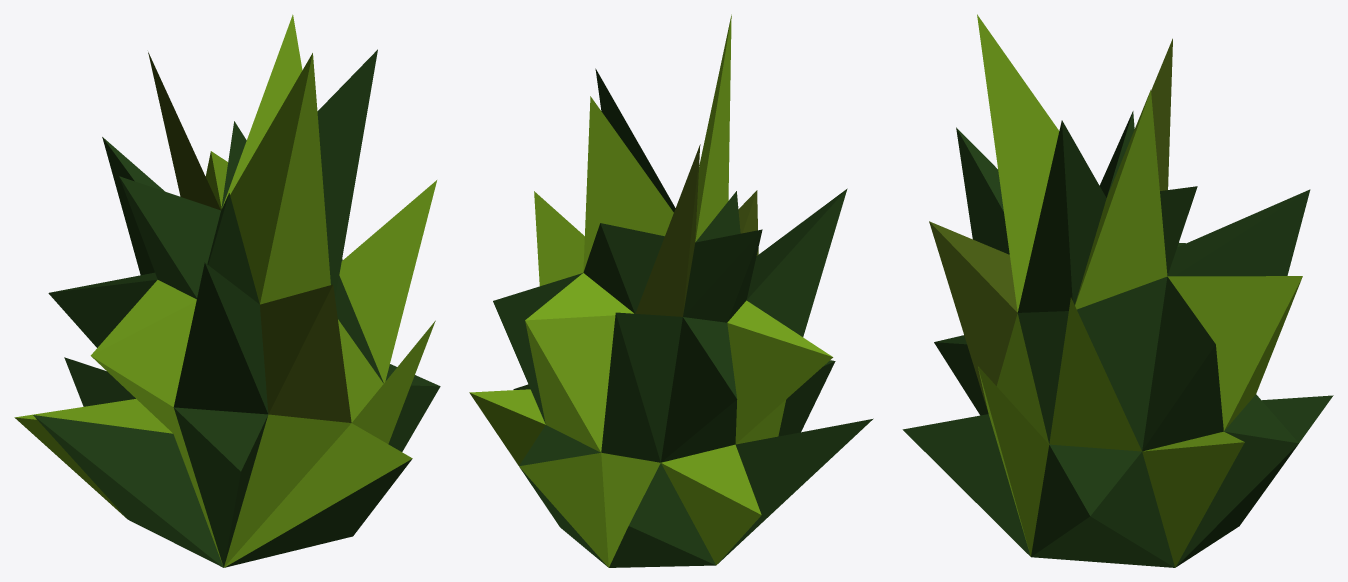
The model's file is Tree3_M2_1_small.fbx.
3 renders of one model, left to right at view 1: azimuth 30°, elevation 25°; view 2: azimuth 150°, elevation 25°; view 3: azimuth 270°, elevation 25°, orthographic. The views are drawn at different scales.
Visible parts, largest first — view 1: Tree3_M2_1_small; view 2: Tree3_M2_1_small; view 3: Tree3_M2_1_small.
Boxes of the visible parts, <box> form: Tree3_M2_1_small: <box>14,14,440,567</box>; Tree3_M2_1_small: <box>469,14,873,567</box>; Tree3_M2_1_small: <box>902,14,1333,567</box>.
Size of the model in its own units: 48.69 by 59.84 by 45.78.
